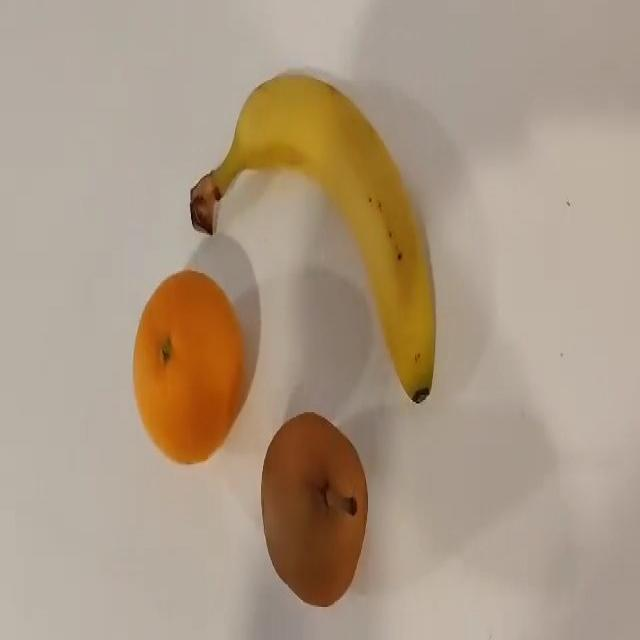Apple: (260, 411, 368, 607)
Banana: (188, 71, 437, 404)
Orange: (132, 268, 246, 464)
